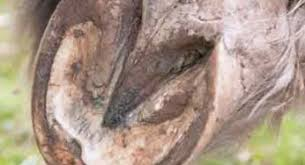horsesole: (28, 1, 219, 165)
